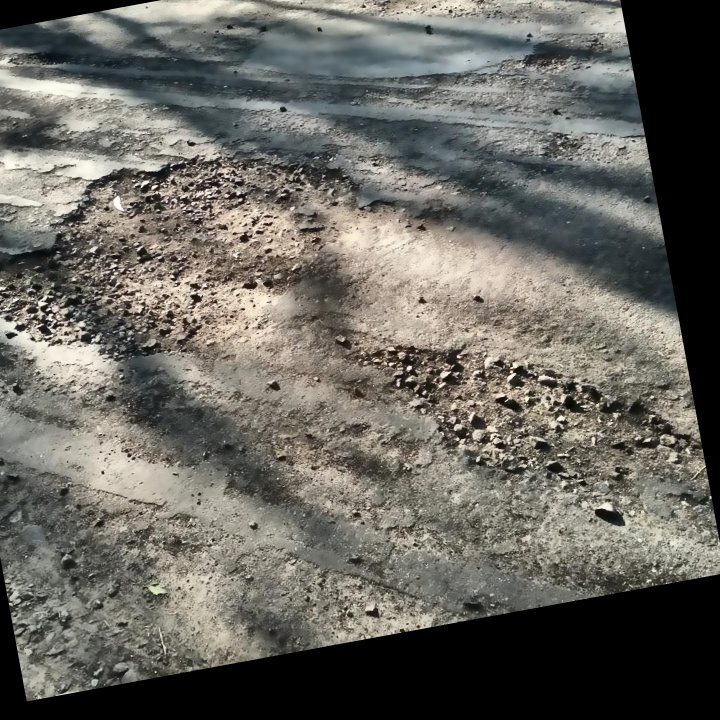pothole: (0, 117, 404, 394), (358, 292, 706, 527)
